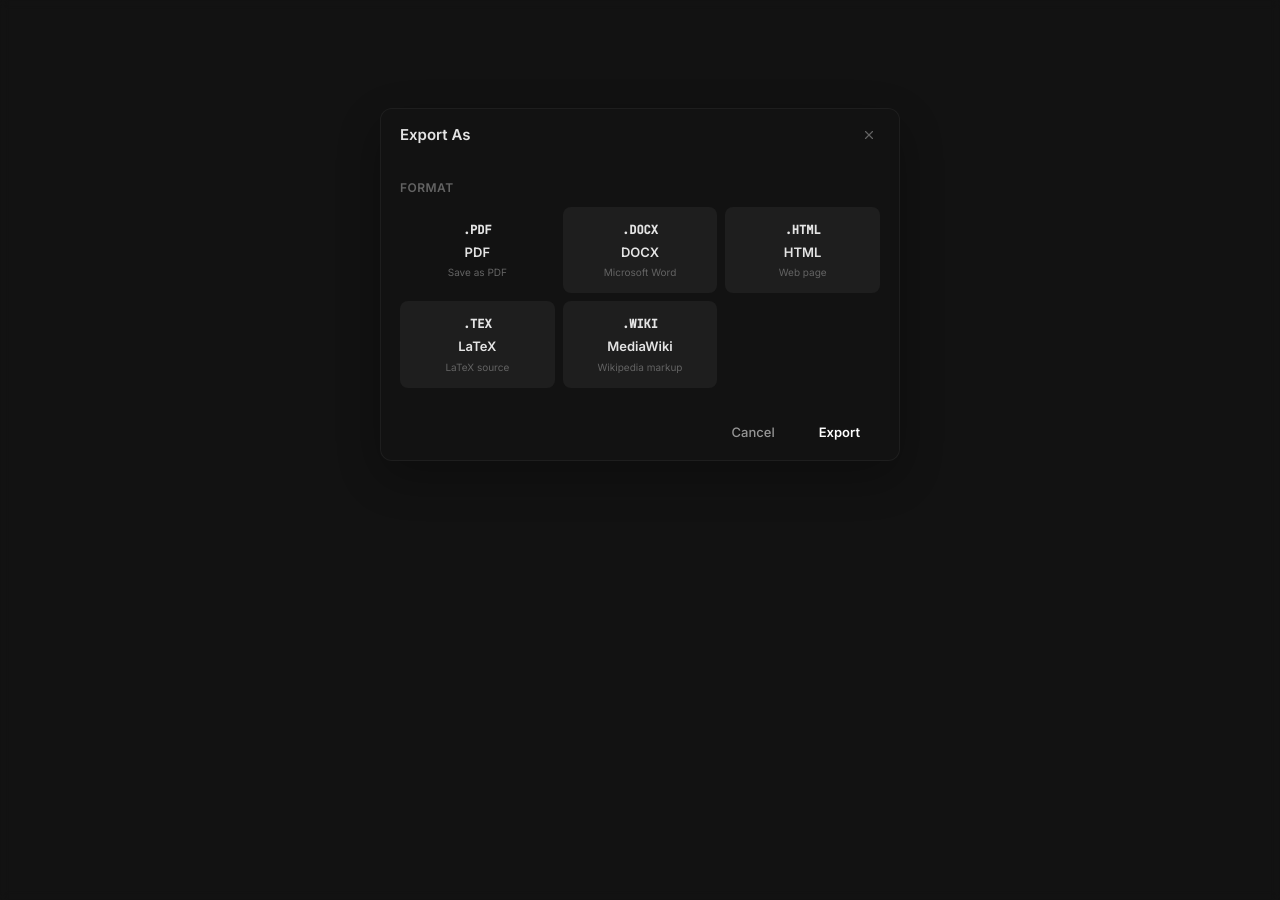
ExportDialog › shows error if exportWithDialog throws
Note: Trigger export
Click the button "Export".
click(839, 432)  # box [799,416,880,449]
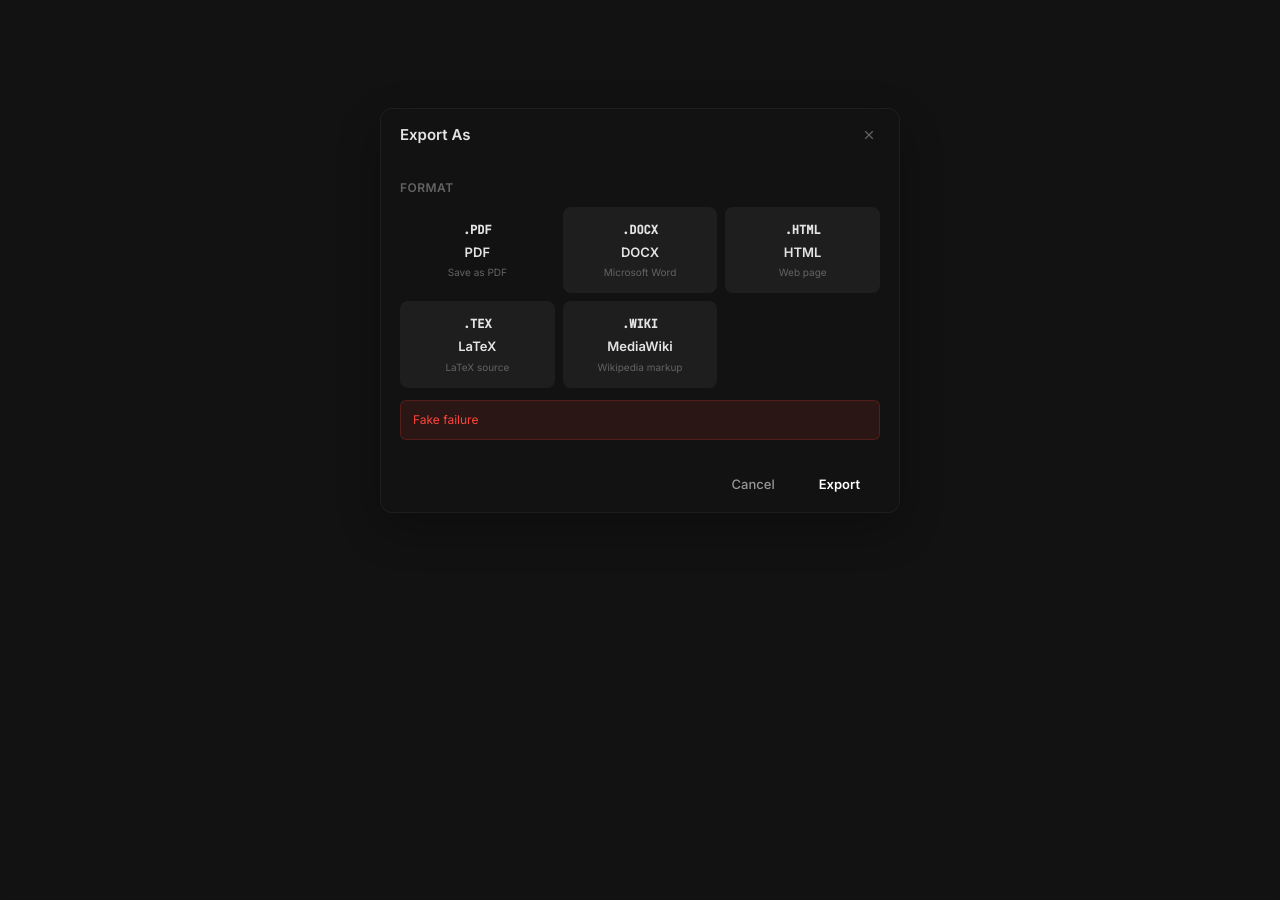
Check: the text "Fake failure" is shown, box [400,400,880,440]
